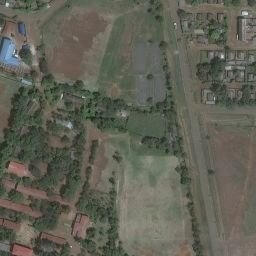tree: (19, 49, 32, 61), (209, 28, 219, 40), (22, 176, 32, 187), (86, 227, 96, 236), (74, 80, 83, 89), (158, 41, 168, 49), (177, 8, 185, 17), (60, 135, 69, 143), (181, 177, 191, 184), (64, 101, 72, 109), (29, 70, 37, 78), (207, 168, 215, 175), (160, 136, 168, 143), (146, 73, 153, 80), (155, 15, 163, 21), (109, 177, 115, 184), (147, 97, 152, 103)
